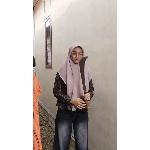Golok: (77, 54, 92, 112)
